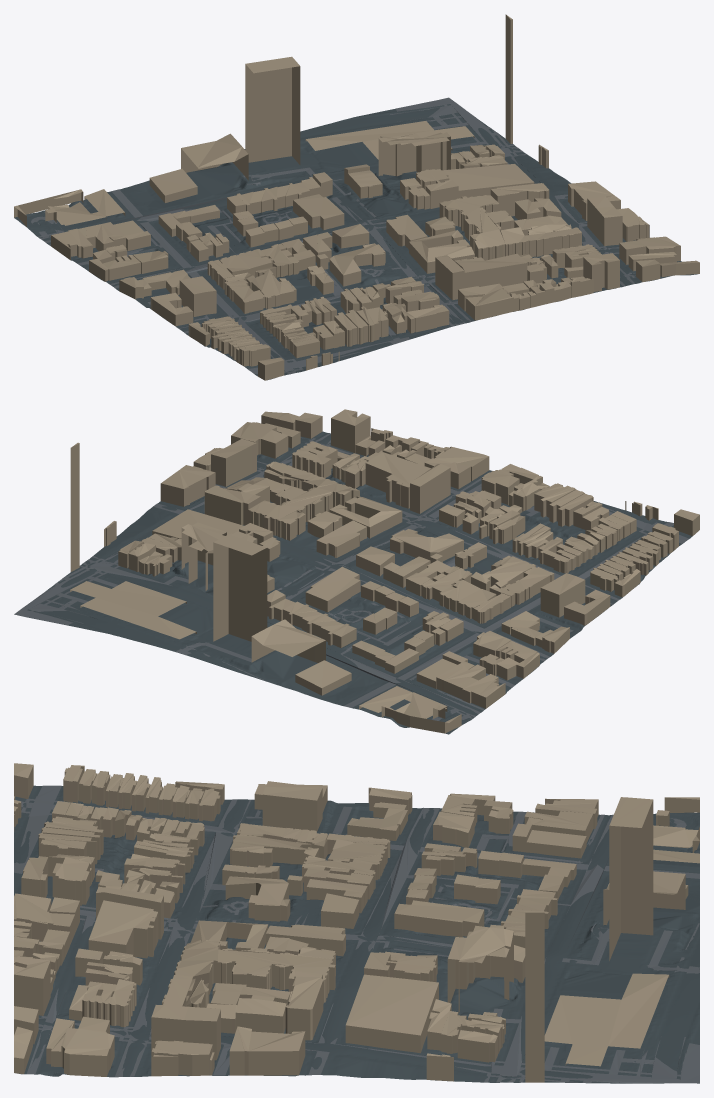
Rendered from epsg26910-1433-10891.lod0.glb.
3 renders of one model, top to bottom at view 1: azimuth 30°, elevation 25°; view 2: azimuth 150°, elevation 25°; view 3: azimuth 270°, elevation 25°, orthographic. The views are drawn at different scales.
Visible parts, largest first — view 1: epsg26910-1433-10891-lod0; view 2: epsg26910-1433-10891-lod0; view 3: epsg26910-1433-10891-lod0.
Boxes of the visible parts, <box> form: epsg26910-1433-10891-lod0: <box>14,14,699,380</box>; epsg26910-1433-10891-lod0: <box>14,409,699,734</box>; epsg26910-1433-10891-lod0: <box>14,763,699,1083</box>.
Size of the model in its own units: 384 by 122 by 384.
